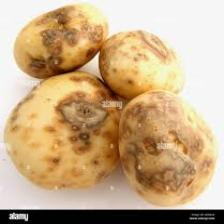Diseased-fungal potato: (2, 67, 126, 196), (112, 88, 220, 207), (13, 2, 105, 76), (94, 25, 184, 100)
